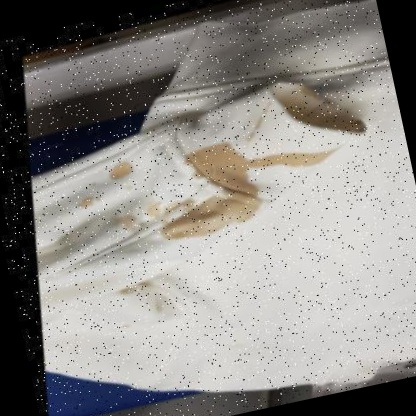coffee: (161, 193, 256, 240), (241, 146, 316, 178), (199, 146, 245, 187), (109, 160, 134, 181)
